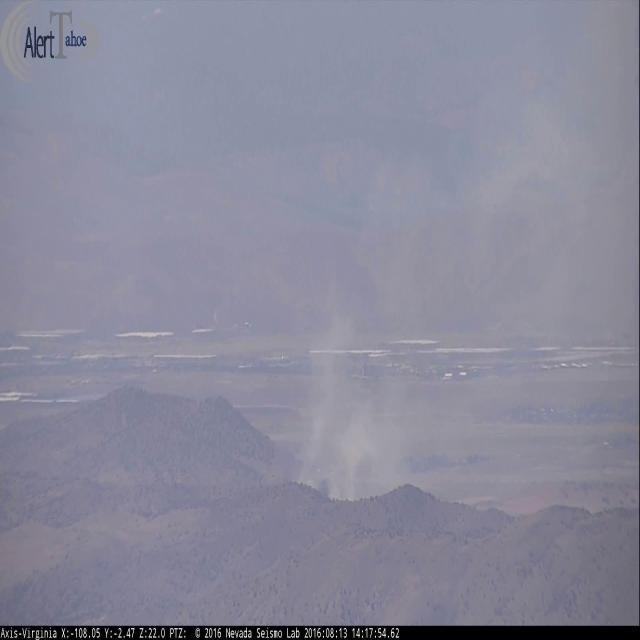smoke: (293, 0, 640, 492)
